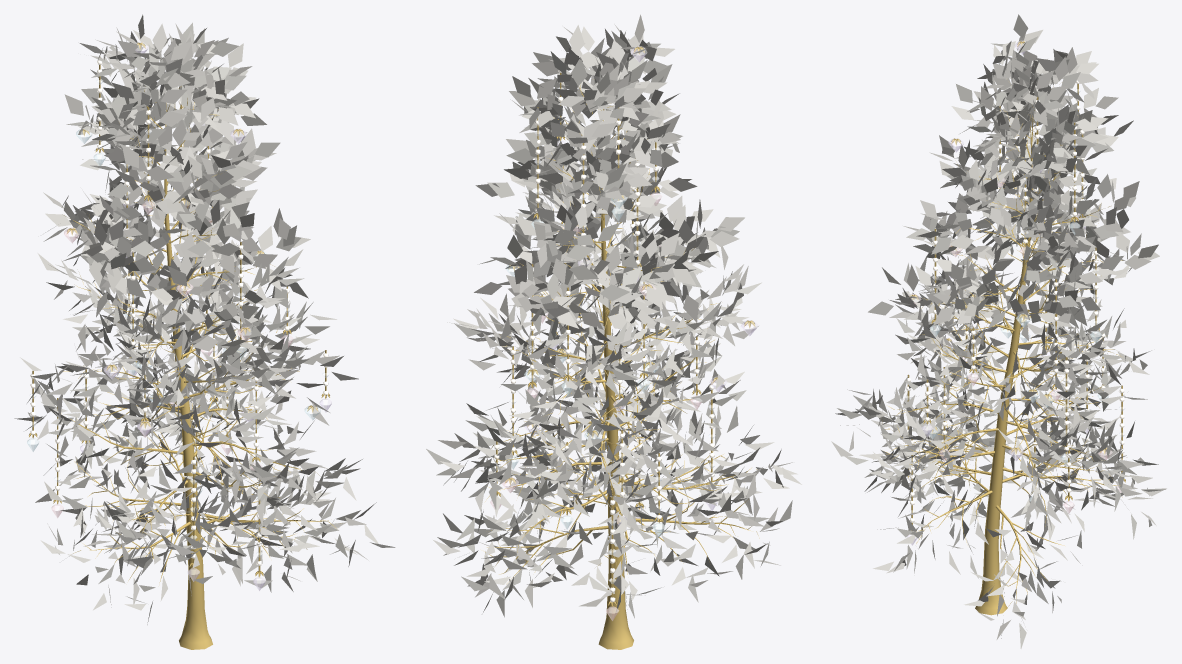
File: houju_lod.glb
The picture shows the model from 3 angles, left to right: view 1: azimuth 30°, elevation 25°; view 2: azimuth 150°, elevation 25°; view 3: azimuth 270°, elevation 25°; orthographic projection. The views are drawn at different scales.
Visible parts, largest first — view 1: Leaves, Branches1, Branches2, pearl_batch, gold_wire, fuji_batch, sakura_batch, mizu_batch, hari_batch, gold_fitting; view 2: Leaves, Branches1, Branches2, pearl_batch, gold_wire, mizu_batch, hari_batch, fuji_batch, gold_fitting, sakura_batch; view 3: Leaves, Branches1, Branches2, pearl_batch, gold_wire, mizu_batch, hari_batch, sakura_batch, fuji_batch, gold_fitting.
Boxes of the visible parts, bbox=[...] form: Leaves: bbox=[14, 14, 395, 624]; Branches1: bbox=[64, 103, 328, 649]; Branches2: bbox=[61, 86, 340, 582]; pearl_batch: bbox=[30, 60, 328, 565]; gold_wire: bbox=[32, 56, 326, 576]; fuji_batch: bbox=[80, 42, 331, 590]; sakura_batch: bbox=[51, 197, 293, 517]; mizu_batch: bbox=[27, 129, 320, 496]; hari_batch: bbox=[29, 79, 329, 557]; gold_fitting: bbox=[29, 42, 329, 577]; Leaves: bbox=[426, 14, 801, 618]; Branches1: bbox=[497, 87, 746, 649]; Branches2: bbox=[484, 85, 759, 584]; pearl_batch: bbox=[494, 70, 714, 602]; gold_wire: bbox=[496, 73, 712, 605]; mizu_batch: bbox=[505, 195, 665, 536]; hari_batch: bbox=[494, 87, 715, 583]; fuji_batch: bbox=[524, 46, 758, 525]; gold_fitting: bbox=[496, 46, 755, 606]; sakura_batch: bbox=[490, 192, 702, 620]; Leaves: bbox=[831, 14, 1166, 648]; Branches1: bbox=[886, 110, 1112, 615]; Branches2: bbox=[873, 86, 1122, 607]; pearl_batch: bbox=[906, 72, 1124, 521]; gold_wire: bbox=[907, 84, 1122, 524]; mizu_batch: bbox=[928, 160, 1108, 502]; hari_batch: bbox=[905, 88, 1124, 513]; sakura_batch: bbox=[909, 178, 1121, 513]; fuji_batch: bbox=[906, 40, 1092, 545]; gold_fitting: bbox=[908, 41, 1125, 501].
Bounding box in the file's own units: 4.53 × 8.5 × 4.5.
